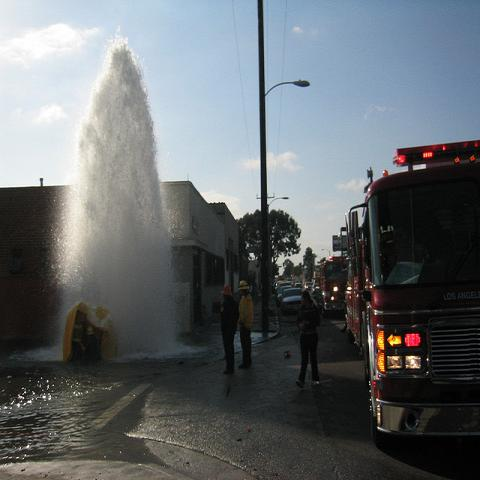bus: (346, 161, 480, 447)
car: (281, 288, 302, 318), (276, 283, 293, 307), (294, 280, 304, 288), (304, 282, 313, 290)
truck: (347, 141, 479, 442), (319, 256, 349, 316)
